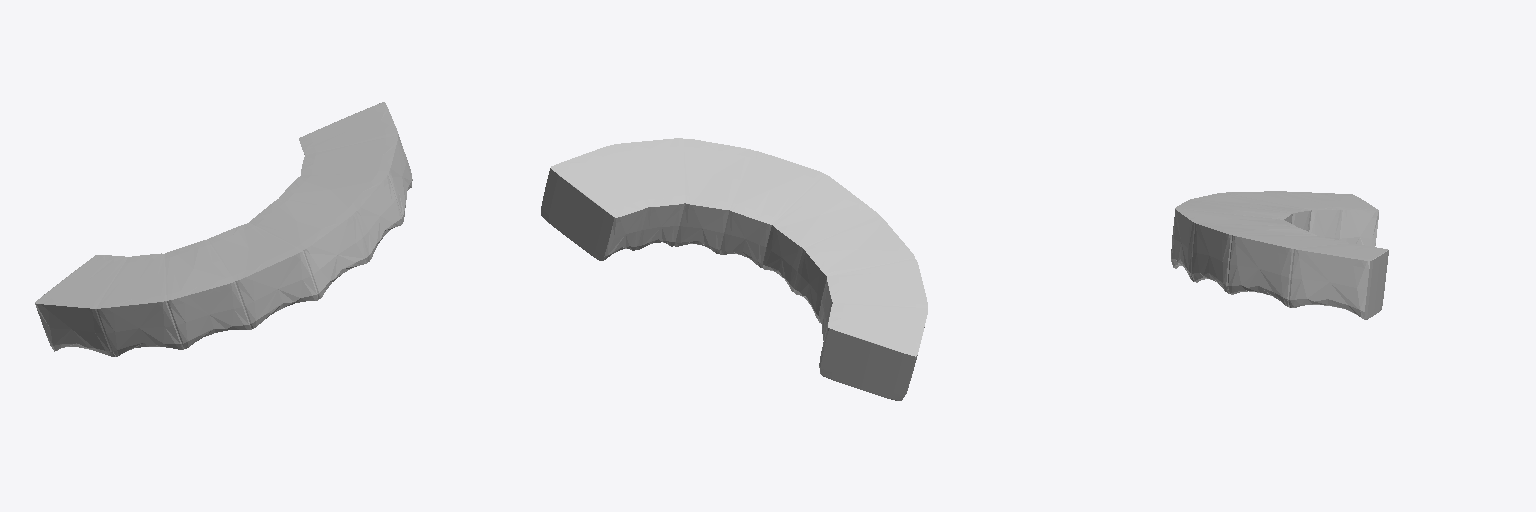
Rendered from SubTool-7-16061506.OBJ.
3 renders of one model, left to right at view 1: azimuth 30°, elevation 25°; view 2: azimuth 150°, elevation 25°; view 3: azimuth 270°, elevation 25°, orthographic.
Visible parts, largest first — view 1: Group26; view 2: Group26; view 3: Group26.
Part boxes in pixels (x1,y1,x2,y2): Group26: (35,102,412,356); Group26: (541,138,927,400); Group26: (1171,191,1388,319).
Bounding box in the file's own units: 7.55 × 3.12 × 3.86.